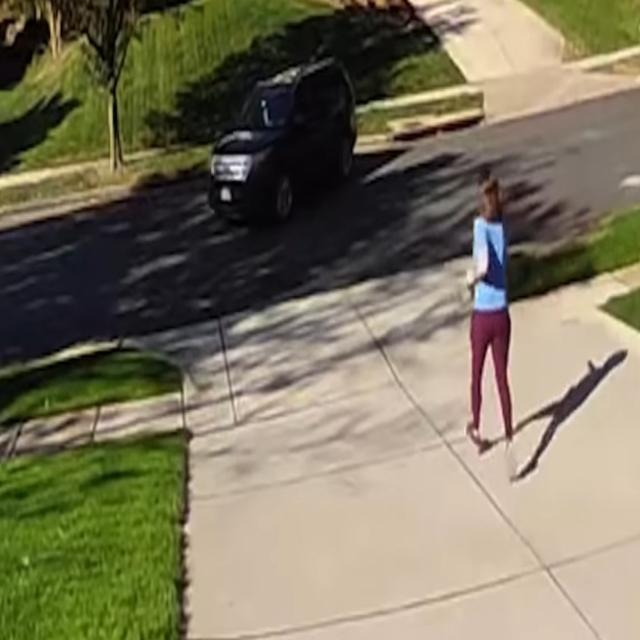standing: (466, 172, 513, 455)
